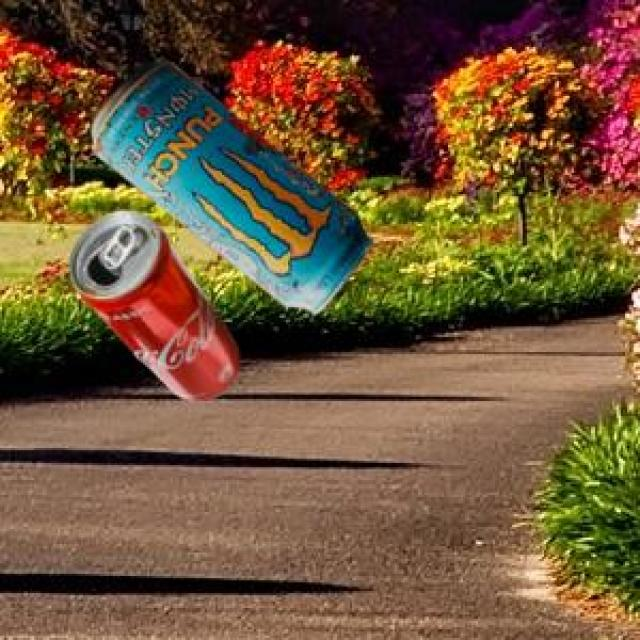logam: (89, 61, 370, 310), (67, 208, 236, 398)
